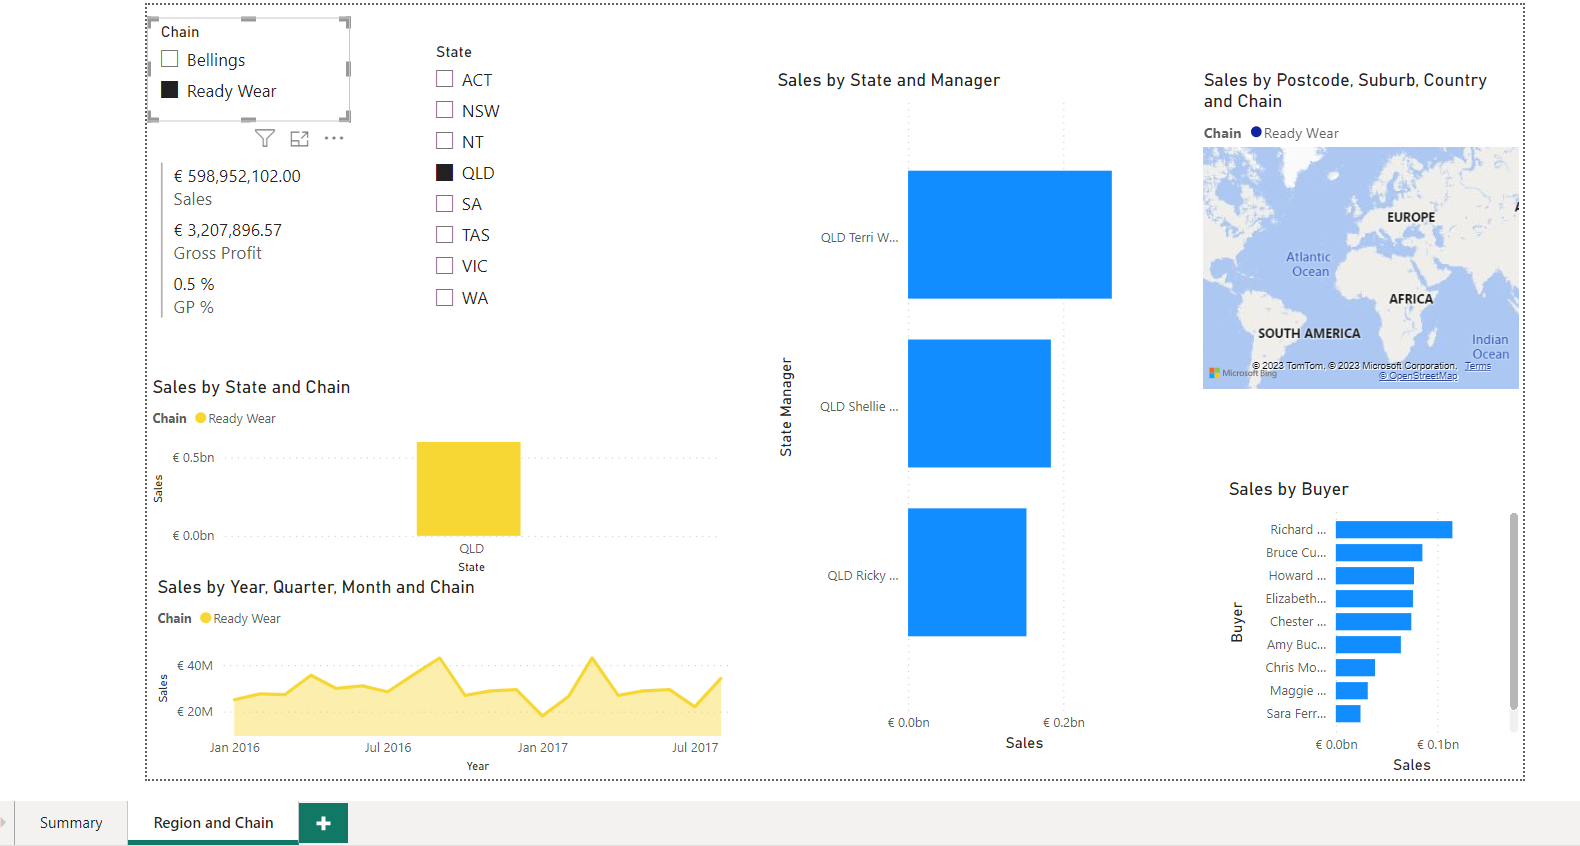

The dashboard page shown, as its layout file describes it:
{"tool":"powerbi","page":{"name":"Region and Chain","canvas":[1280,720],"ordinal":1},"visuals":[{"type":"clusteredBarChart","fields":{"Category":["Buyers.Buyer"],"Y":["Sales.Sales"]},"box":[1000.7,439.9,279.3,280.4],"z":0},{"type":"map","fields":{"Category":["Regions.Postcode, Suburb, Country"],"Series":["Sales.Chain"],"Size":["Sales.Sales"]},"box":[977.4,59.5,302.6,302.6],"z":1000},{"type":"clusteredBarChart","fields":{"Category":["Regions.State","Managers.Manager"],"Y":["Sales.Sales"]},"box":[581.4,59.7,368.5,640],"z":2000},{"type":"stackedAreaChart","fields":{"Category":["Dates.Date.Variation.Date Hierarchy.Year","Dates.Date.Variation.Date Hierarchy.Quarter","Dates.Date.Variation.Date Hierarchy.Month"],"Series":["Sales.Chain"],"Y":["Sales.Sales"]},"box":[4.7,531.8,556.2,187.3],"z":3000},{"type":"clusteredColumnChart","fields":{"Category":["Regions.State"],"Y":["Sales.Sales"],"Series":["Sales.Chain"]},"box":[0,345.6,536.4,188.5],"z":4000},{"type":"slicer","fields":{"Values":["Sales.Chain"]},"box":[0,11.6,188.5,96.6],"z":5000},{"type":"multiRowCard","fields":{"Values":["Sales.Sales","Sales.Gross Profit","Sales.GP %"]},"box":[8.1,142,171.1,175.7],"z":6000},{"type":"slicer","fields":{"Values":["Regions.State"]},"box":[256,30.3,280.4,287.4],"z":7000}]}

Visuals, with their boxes on the page's 1280x720 design canvas (x1, y1, x2, y2). These are canvas units, not pixel positions in the 1580x846 screenshot, which may show the page scaled, cropped or inside an application window:
clusteredBarChart - Buyers.Buyer x Sales.Sales: (1001, 440, 1280, 720)
map - Regions.Postcode, Suburb, Country x Sales.Chain: (977, 60, 1280, 362)
clusteredBarChart - Regions.State x Managers.Manager: (581, 60, 950, 700)
stackedAreaChart - Dates.Date.Variation.Date Hierarchy.Year x Dates.Date.Variation.Date Hierarchy.Quarter: (5, 532, 561, 719)
clusteredColumnChart - Regions.State x Sales.Sales: (0, 346, 536, 534)
slicer - Sales.Chain: (0, 12, 188, 108)
multiRowCard - Sales.Sales x Sales.Gross Profit: (8, 142, 179, 318)
slicer - Regions.State: (256, 30, 536, 318)
